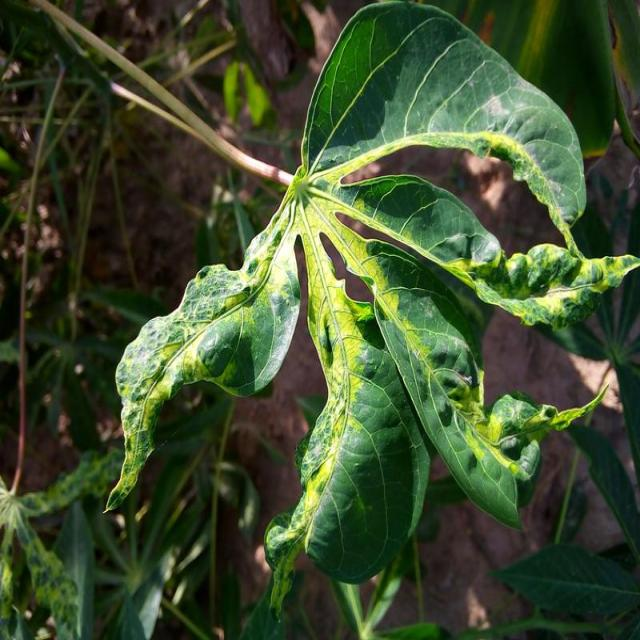cassava leaf: (102, 0, 637, 615)
